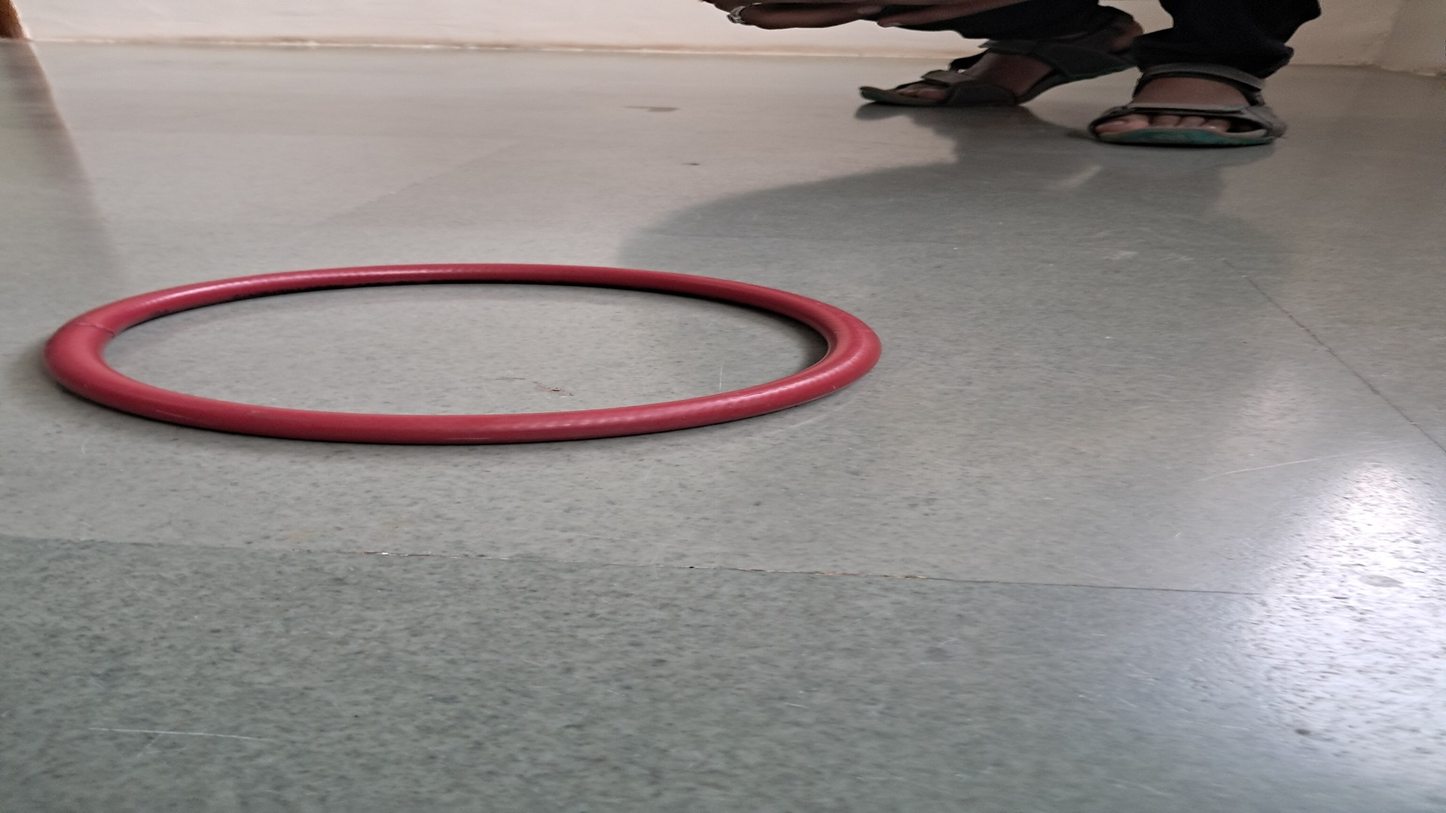Red ring: (45, 265, 880, 446)
